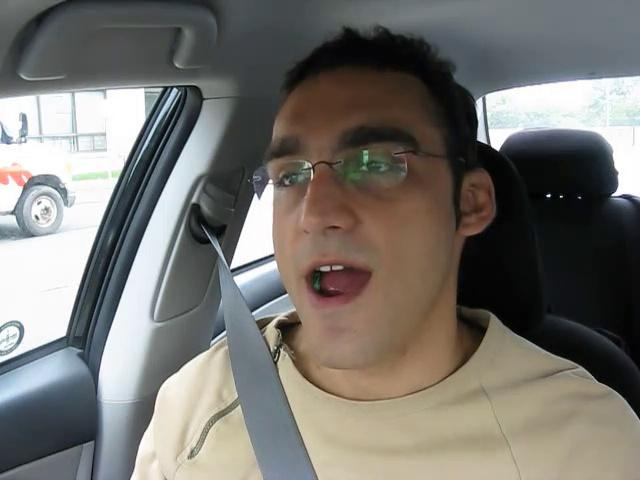open_eyeL: (261, 153, 331, 200)
open_eyeR: (332, 143, 430, 199)
yawn: (280, 243, 395, 319)
